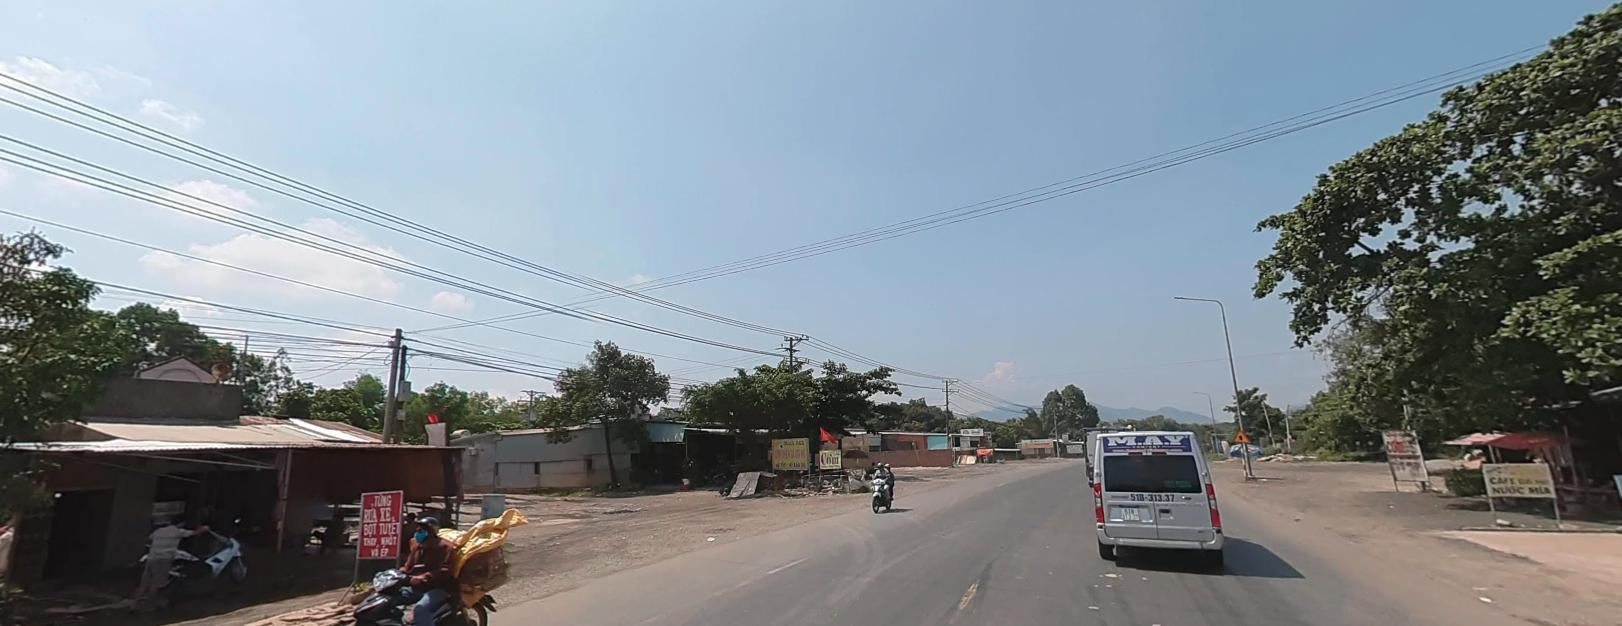Nguy hiem: (1232, 428, 1251, 443)
